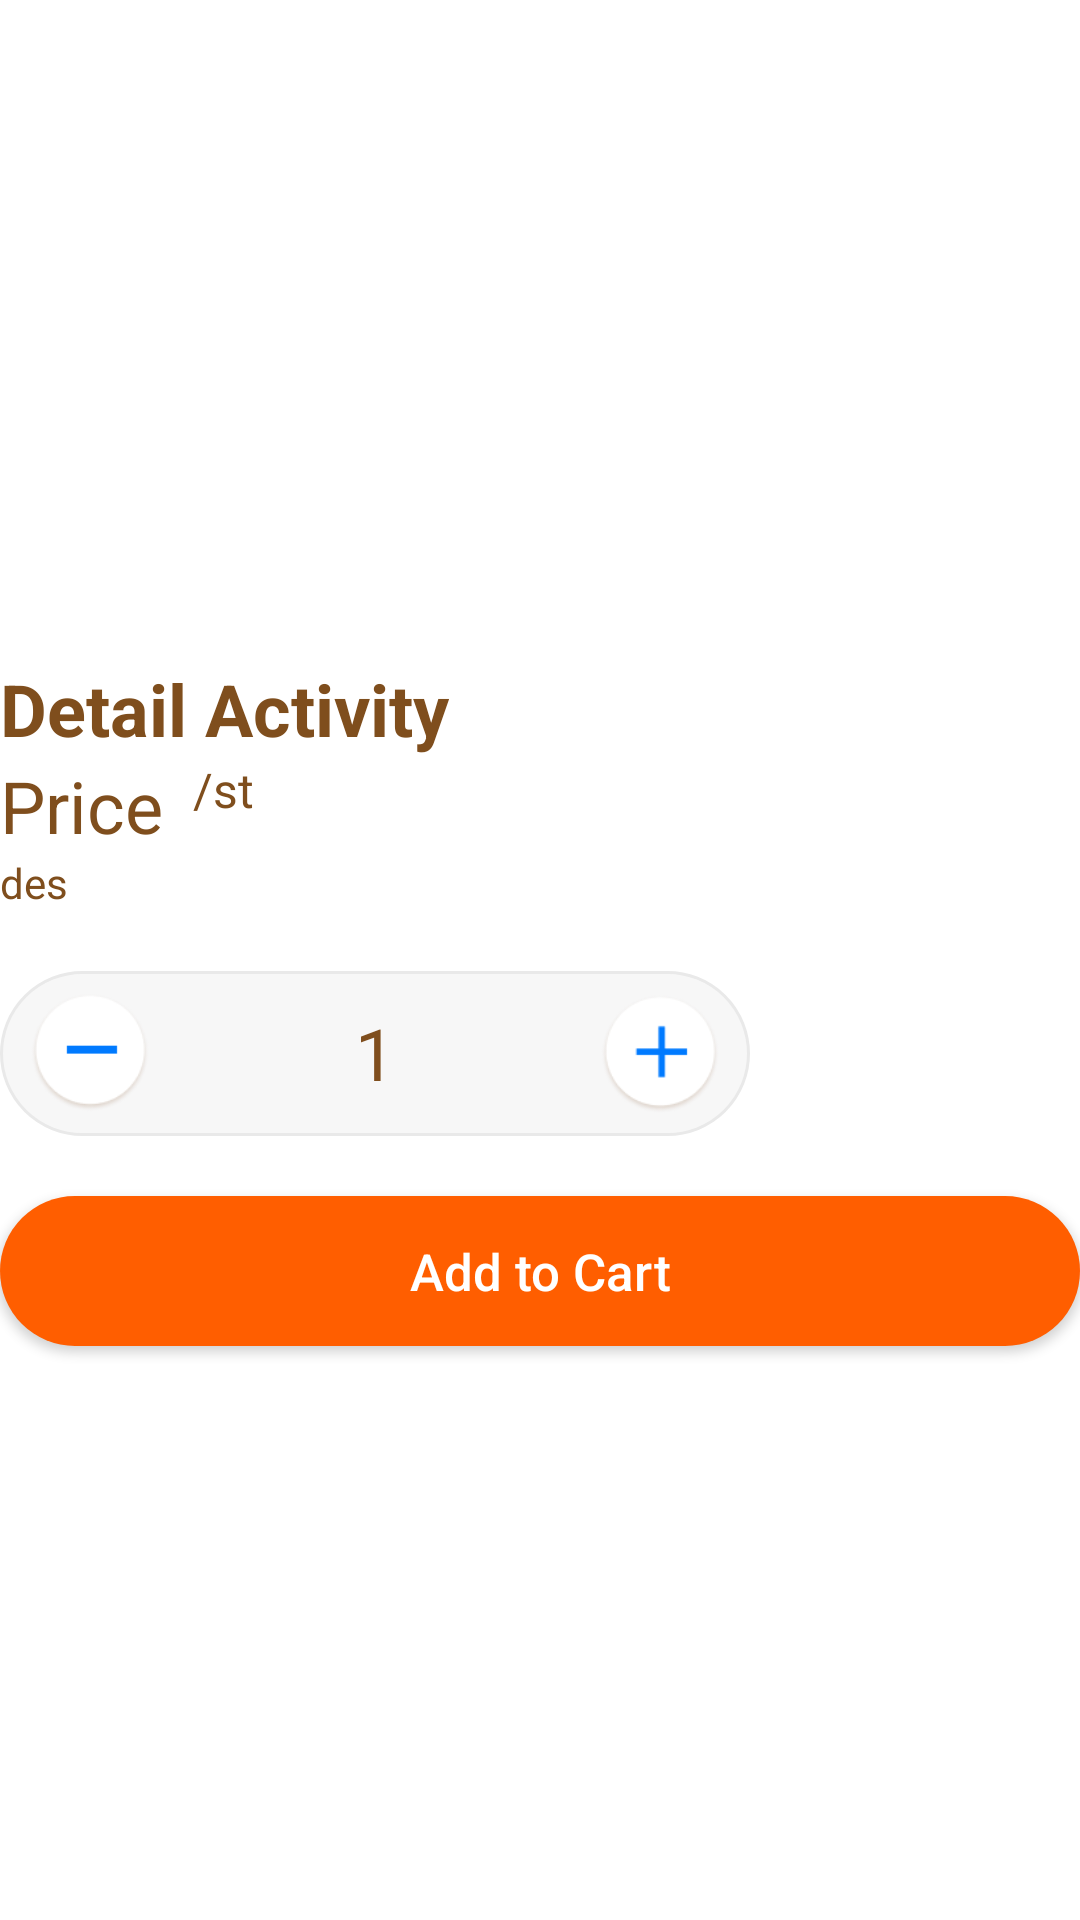

Icons on this 1080 x 1920 Android screen, each with the point to tap as point (x, y):
plus details product: point (660, 1055)
reduce cart: point (90, 1053)
